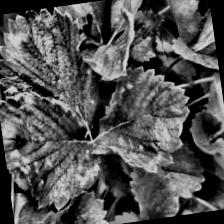Powdery Mildew Leaf: (0, 2, 109, 143), (82, 58, 202, 182), (0, 80, 108, 217), (74, 4, 144, 85), (11, 187, 111, 224)
